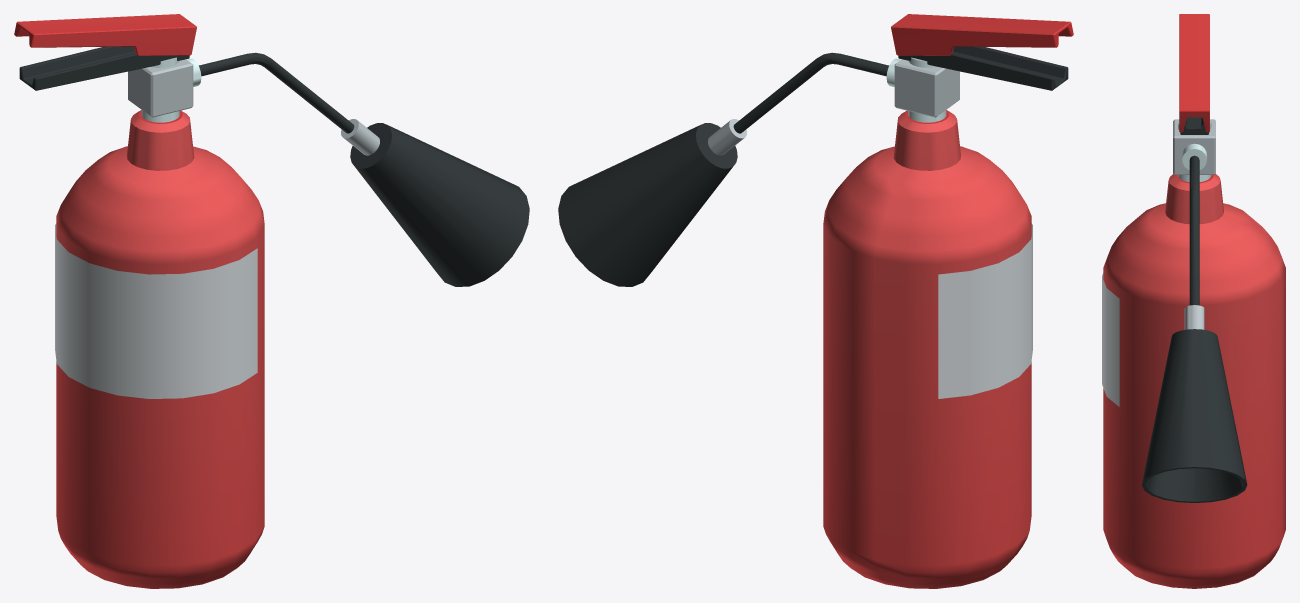
The model's file is Extinguisher.fbx.
3 renders of one model, left to right at view 1: azimuth 30°, elevation 25°; view 2: azimuth 150°, elevation 25°; view 3: azimuth 270°, elevation 25°, orthographic. The views are drawn at different scales.
Parts seen in each view (by area): view 1: extinguisher:extinguisher; view 2: extinguisher:extinguisher; view 3: extinguisher:extinguisher.
Boxes of the visible parts, box(x1,y1,x2,y2) form: extinguisher:extinguisher: box(14, 14, 529, 588); extinguisher:extinguisher: box(558, 14, 1073, 588); extinguisher:extinguisher: box(1102, 14, 1285, 588).
Bounding box in the file's own units: 0.4927 × 0.5297 × 0.1813.
